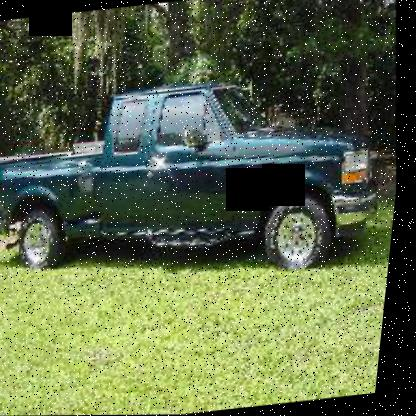not_emergency: (0, 52, 411, 297)
